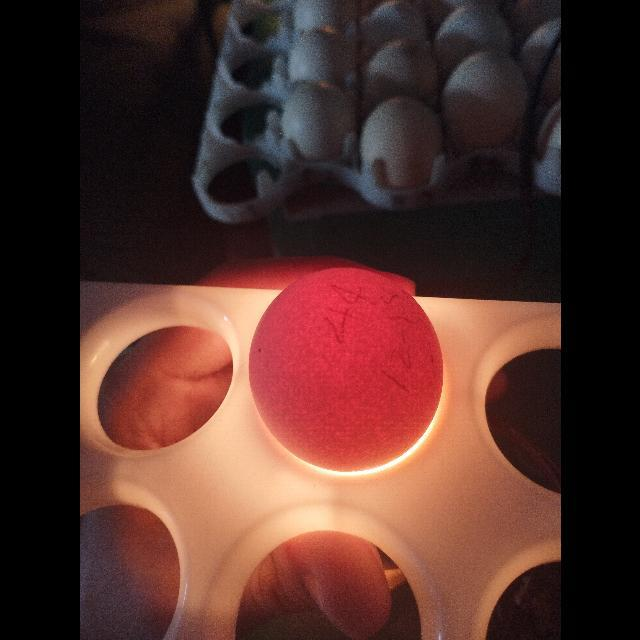Infertile: (245, 264, 448, 480)
